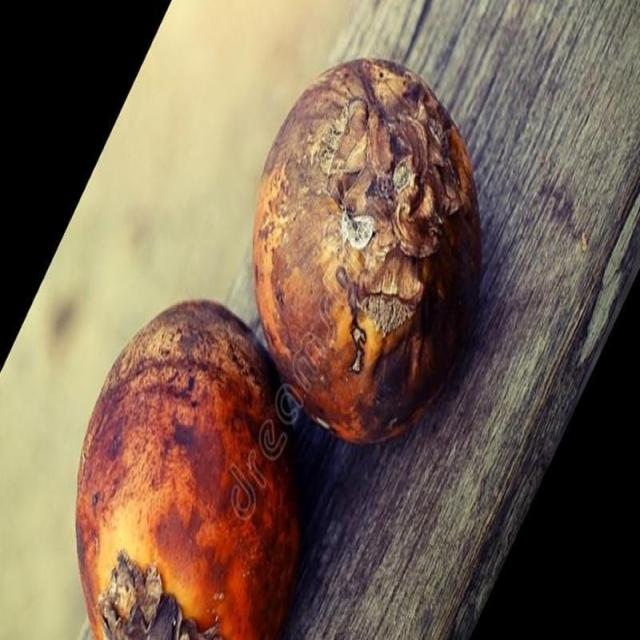damaged: (253, 59, 480, 442), (77, 301, 298, 639)
